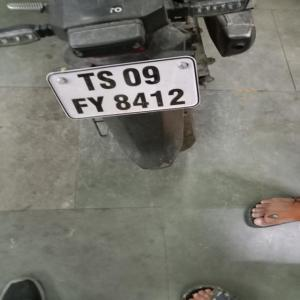Plate: (56, 59, 194, 120)
